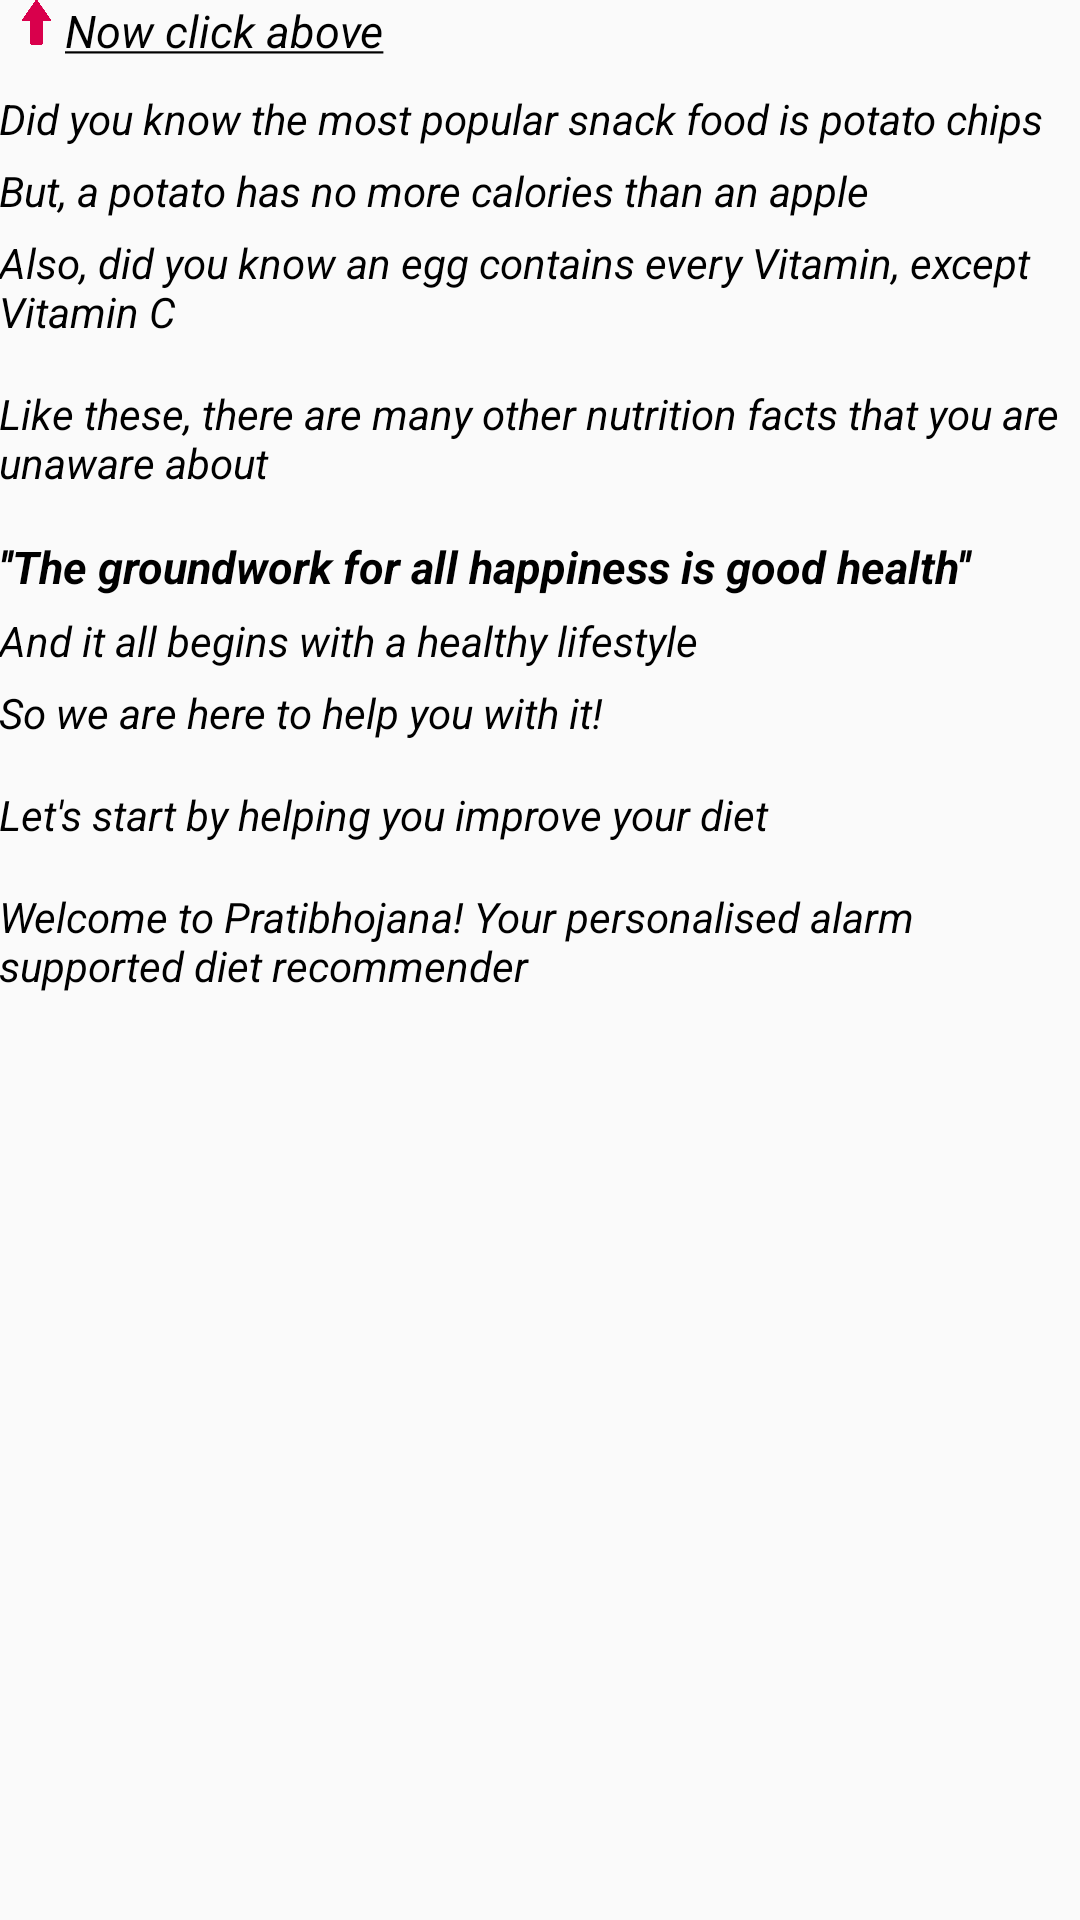

Screen size 1080w x 1920h. Icon name, then its center in pixels as point (x, y):
arrow: point (36, 22)
